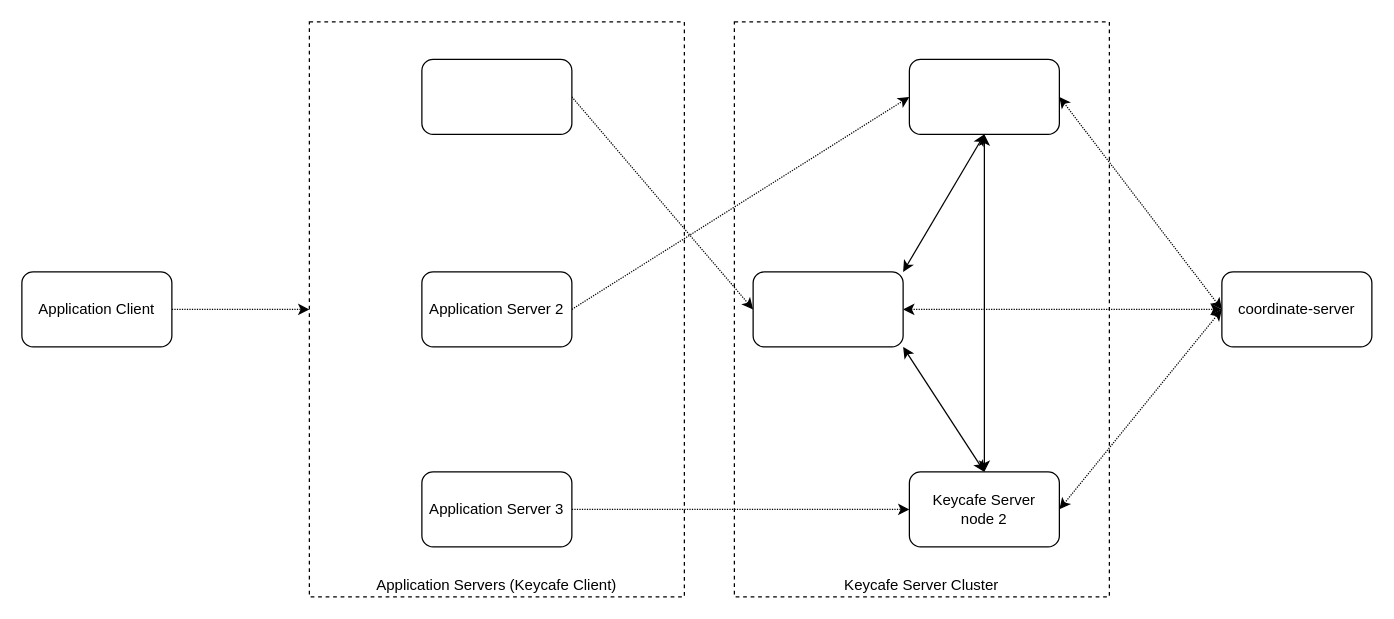
Image size: 1394x619. Some labels were removed from this diagram. Each missing label, with the centre of its shape:
"Application Server 1" goes at (496,96).
"Keycafe Server node 0" goes at (983,96).
"Keycafe Server node 1" goes at (827,309).
